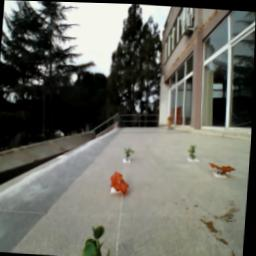herb: (87, 223, 117, 256), (189, 141, 200, 159), (125, 147, 137, 160)
wild: (111, 169, 132, 198), (210, 161, 238, 176)
